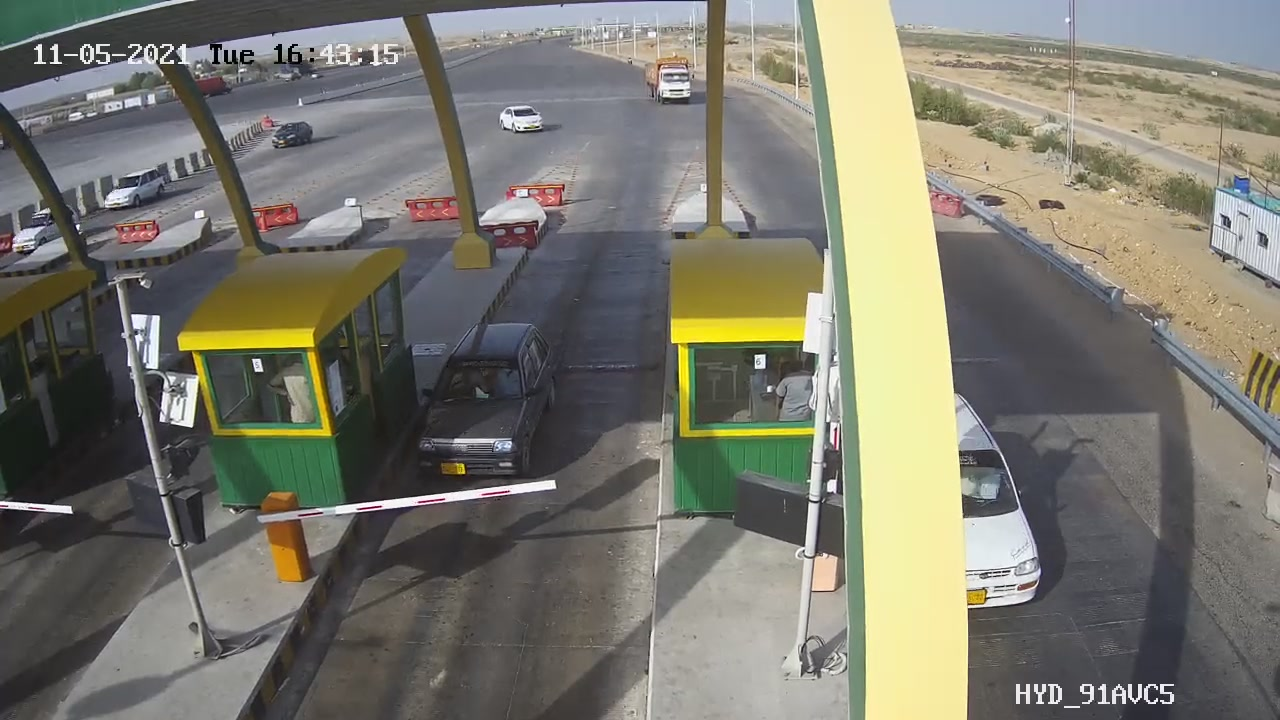F1: (392, 305, 578, 499)
